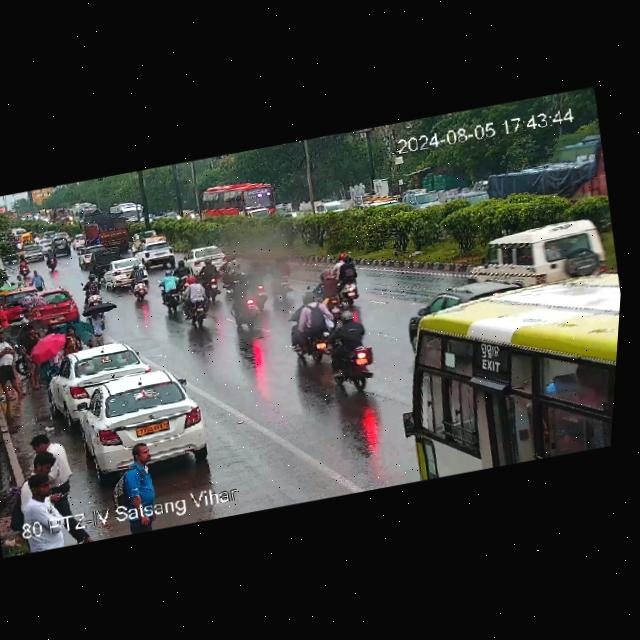bus: (386, 258, 623, 482)
car: (50, 360, 219, 487), (458, 214, 620, 305), (44, 337, 156, 410), (190, 174, 283, 228), (36, 284, 84, 328), (175, 241, 229, 274), (99, 256, 151, 290), (135, 238, 181, 269), (91, 243, 127, 271), (13, 239, 53, 263)
motorcycle: (215, 250, 297, 334), (317, 308, 385, 396), (283, 291, 344, 368), (313, 251, 369, 305), (175, 273, 219, 325), (156, 269, 193, 311), (76, 272, 108, 312), (120, 268, 154, 303), (42, 244, 70, 271), (199, 257, 222, 285), (42, 251, 65, 273)
person: (0, 425, 89, 556), (104, 440, 173, 536), (0, 334, 32, 402), (81, 304, 116, 346), (9, 268, 52, 297), (62, 323, 86, 355), (0, 298, 14, 327)
truck: (462, 124, 611, 216), (75, 210, 132, 256)
